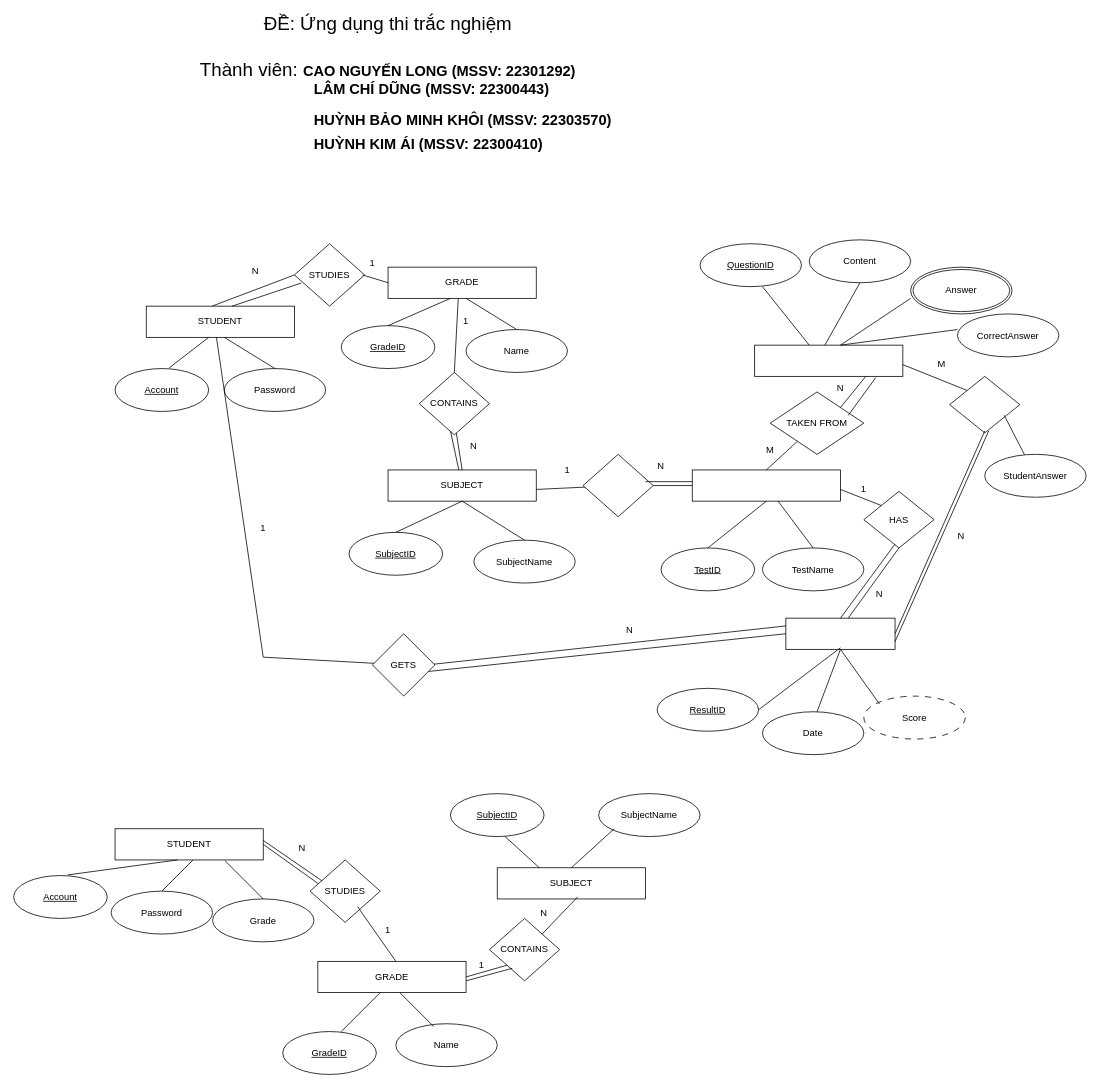
Some shapes in this 1100 by 1088 pixel diagram are drawn without their labels. Each missing label, with the centre of its shape:
BELONGS: pixel 617 485
CHECKS: pixel 984 404
EXAMRESULT: pixel 840 633
QUESTIONBANK: pixel 828 360
TEST: pixel 765 485
